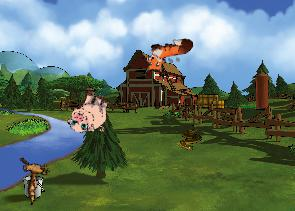eagle: (6, 147, 61, 205)
fox: (140, 36, 196, 78)
pig: (64, 87, 114, 139)
